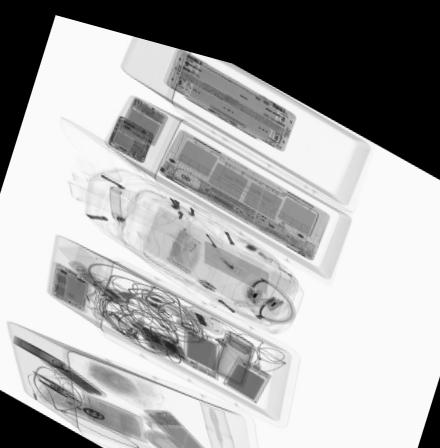Powerbank: (222, 339, 274, 389), (43, 358, 109, 390), (181, 315, 220, 368)
